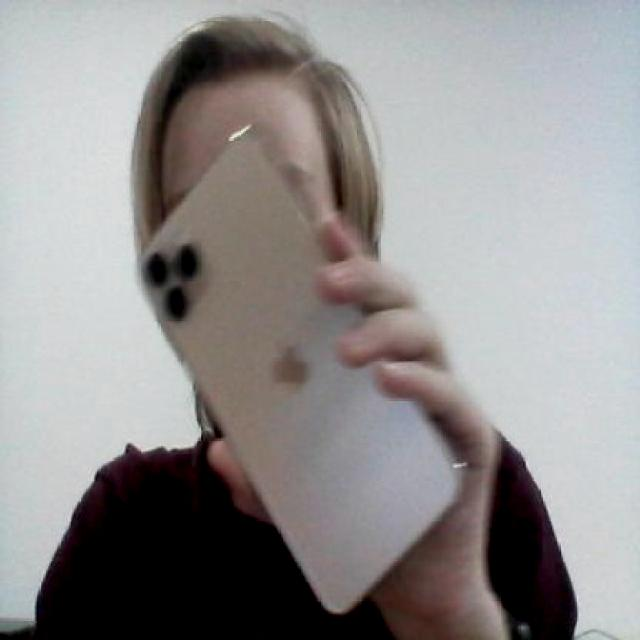lens: (142, 238, 218, 321)
phone: (136, 130, 467, 628)
